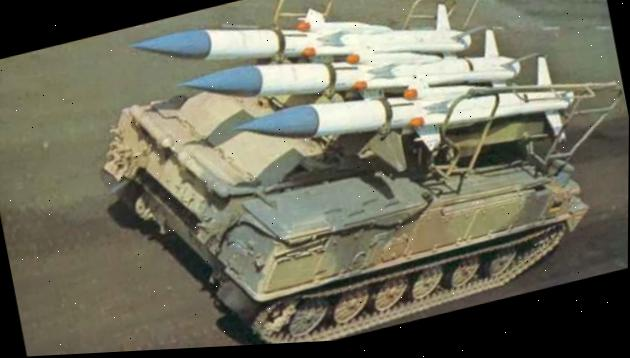armored_car: (64, 0, 630, 355)
